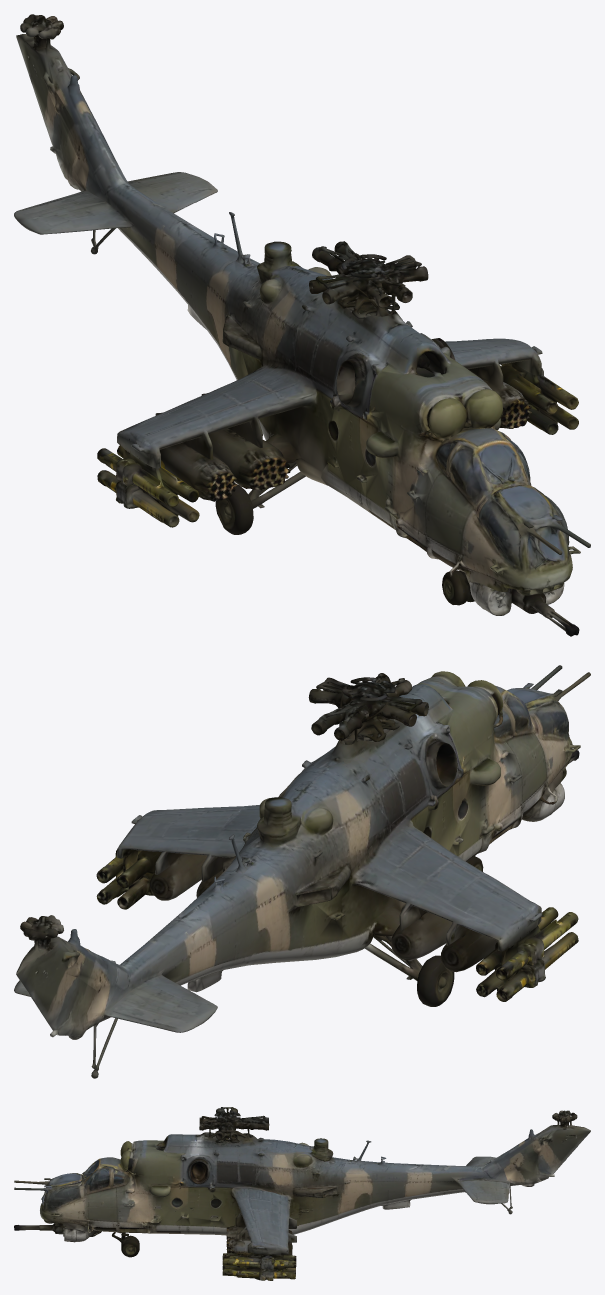
File: heli_attack.glb
3 renders of one model, top to bottom at view 1: azimuth 30°, elevation 25°; view 2: azimuth 150°, elevation 25°; view 3: azimuth 270°, elevation 25°, orthographic. The views are drawn at different scales.
Parts seen in each view (by area): view 1: node_0; view 2: node_0; view 3: node_0.
Boxes of the visible parts, left/top/right/bottom form: node_0: left=14, top=14, right=590, bottom=636; node_0: left=14, top=665, right=590, bottom=1078; node_0: left=14, top=1107, right=590, bottom=1280.
Size of the model in its own units: 0.5116 by 0.3244 by 1.18.
1 material, 1 textured.
